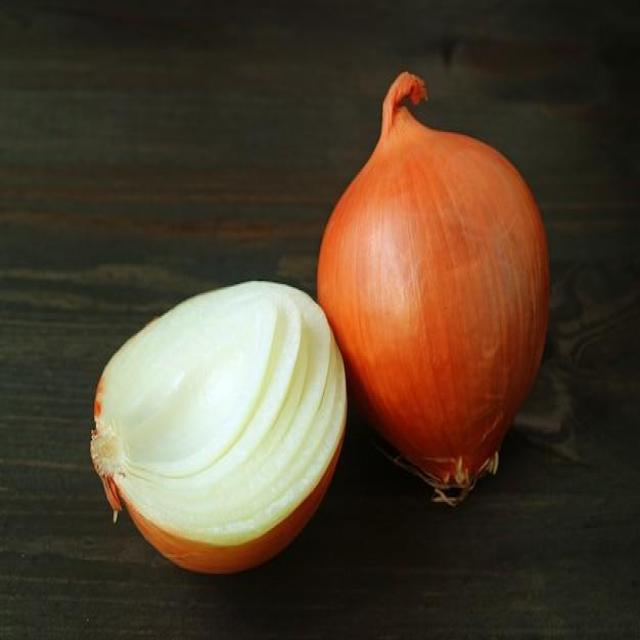Onion: (316, 72, 552, 507), (89, 279, 350, 577)
